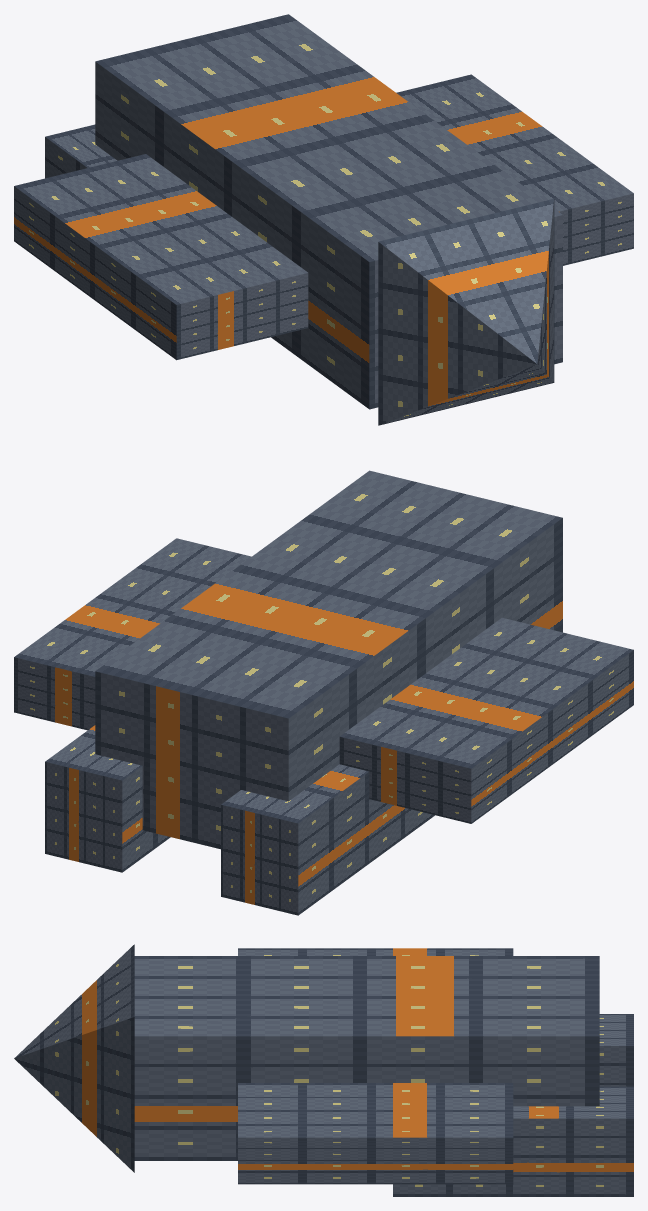
3 renders of one model, top to bottom at view 1: azimuth 30°, elevation 25°; view 2: azimuth 150°, elevation 25°; view 3: azimuth 270°, elevation 25°, orthographic. The views are drawn at different scales.
Parts seen in each view (by area): view 1: hull; view 2: hull; view 3: hull.
Part boxes in pixels (box(x1,y1,x2,y2)): hull: box(14, 14, 633, 425); hull: box(14, 470, 633, 915); hull: box(14, 944, 633, 1196).
Size of the model in its own units: 3.37 by 1.36 by 4.67.
1 material, 1 textured.
